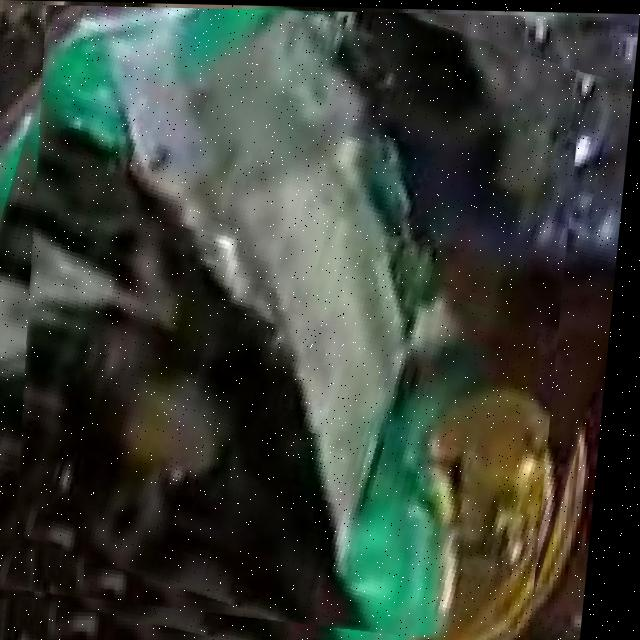litter: (43, 7, 557, 640)
